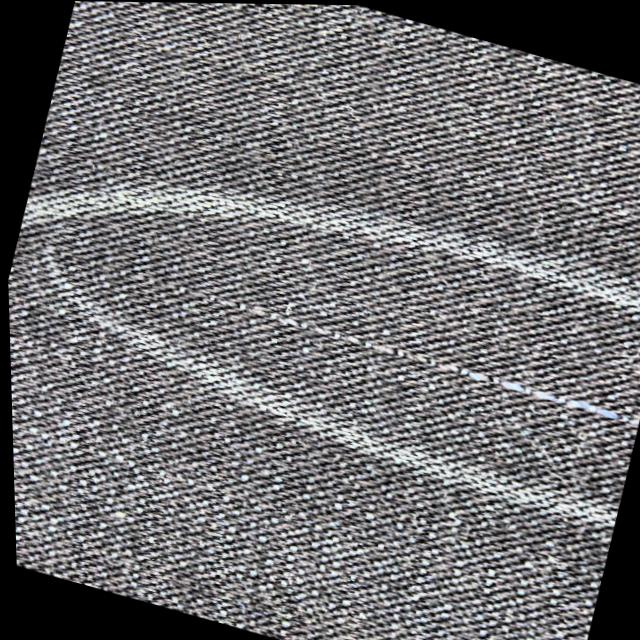Hole: (118, 270, 638, 424)
